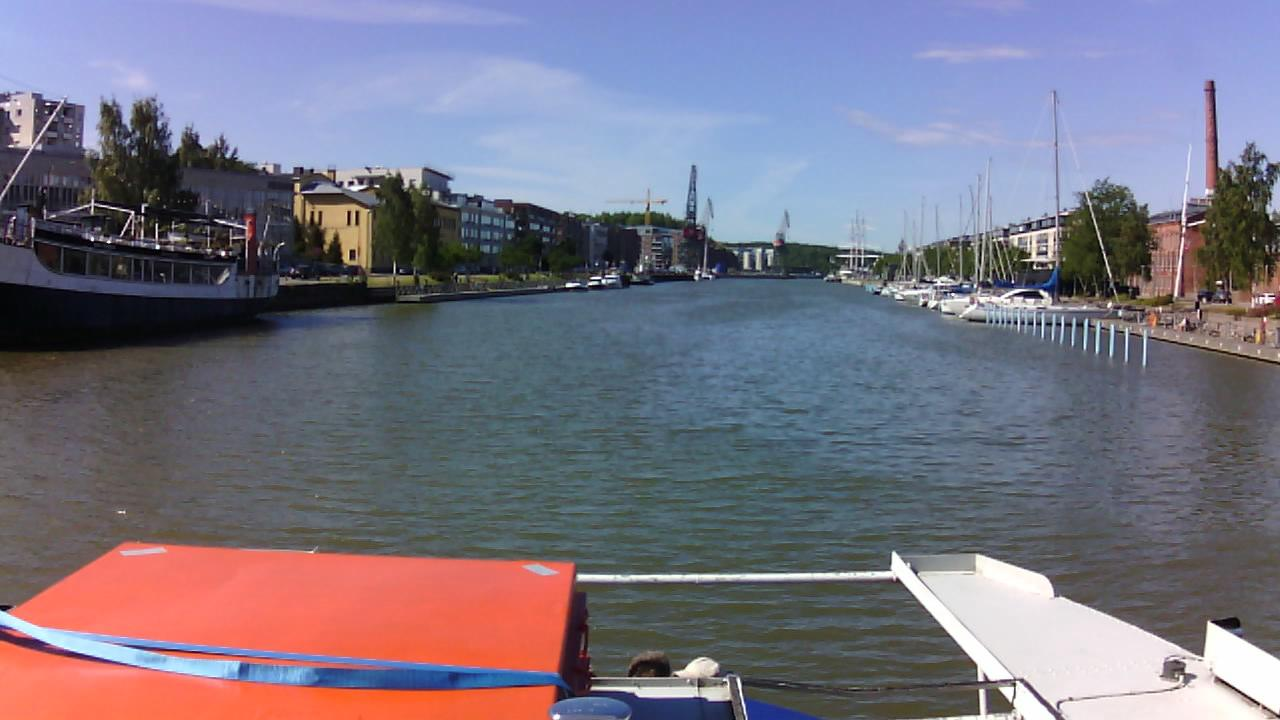Ship: (1, 195, 284, 352), (960, 90, 1090, 326)
